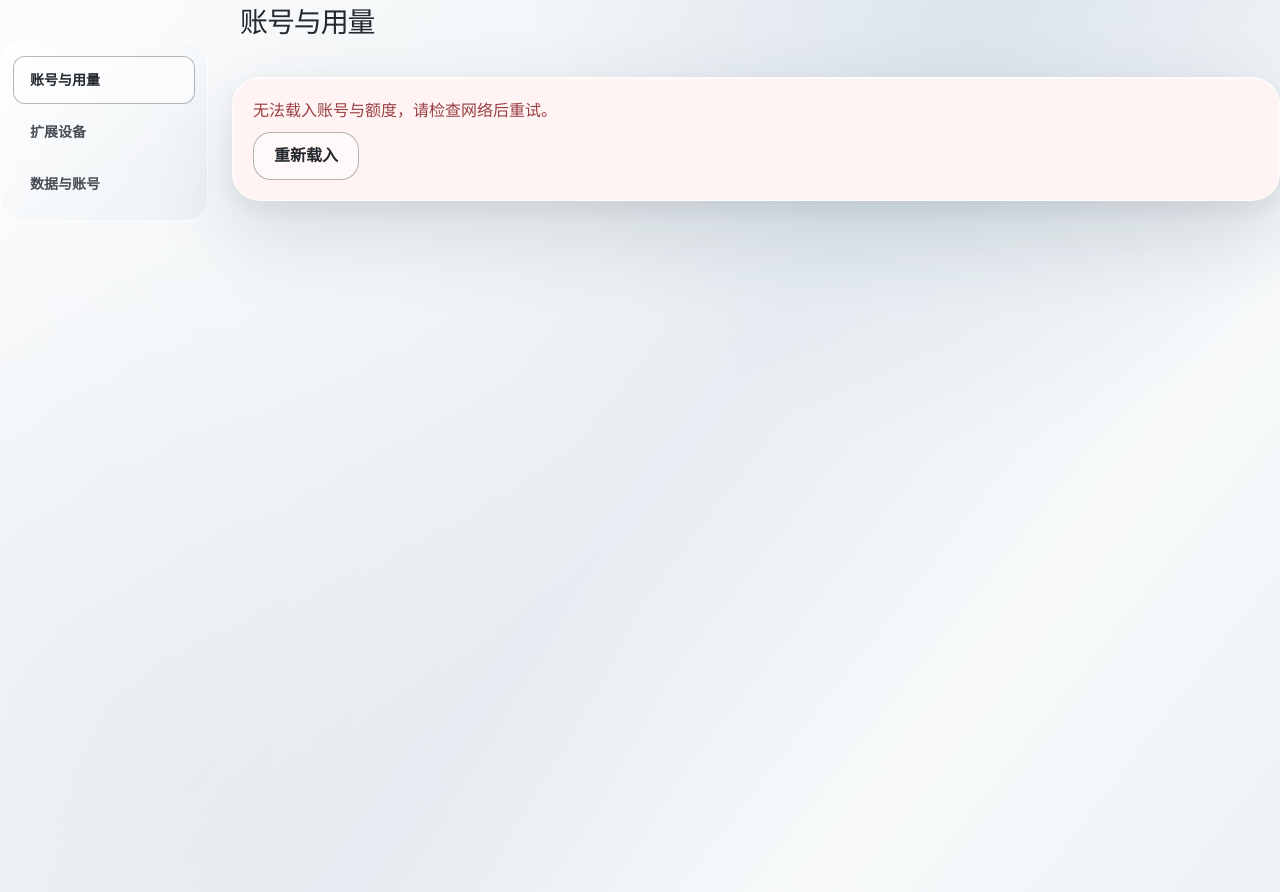
Scenario: Web account platform quota › recovers from a read error
expect the message "无法载入账号与额度，请检查网络后重试。 重新载入" is shown: met, box [232, 77, 1279, 201]
Click the button "重新载入": coordinates (306, 156) [253, 132, 359, 180]
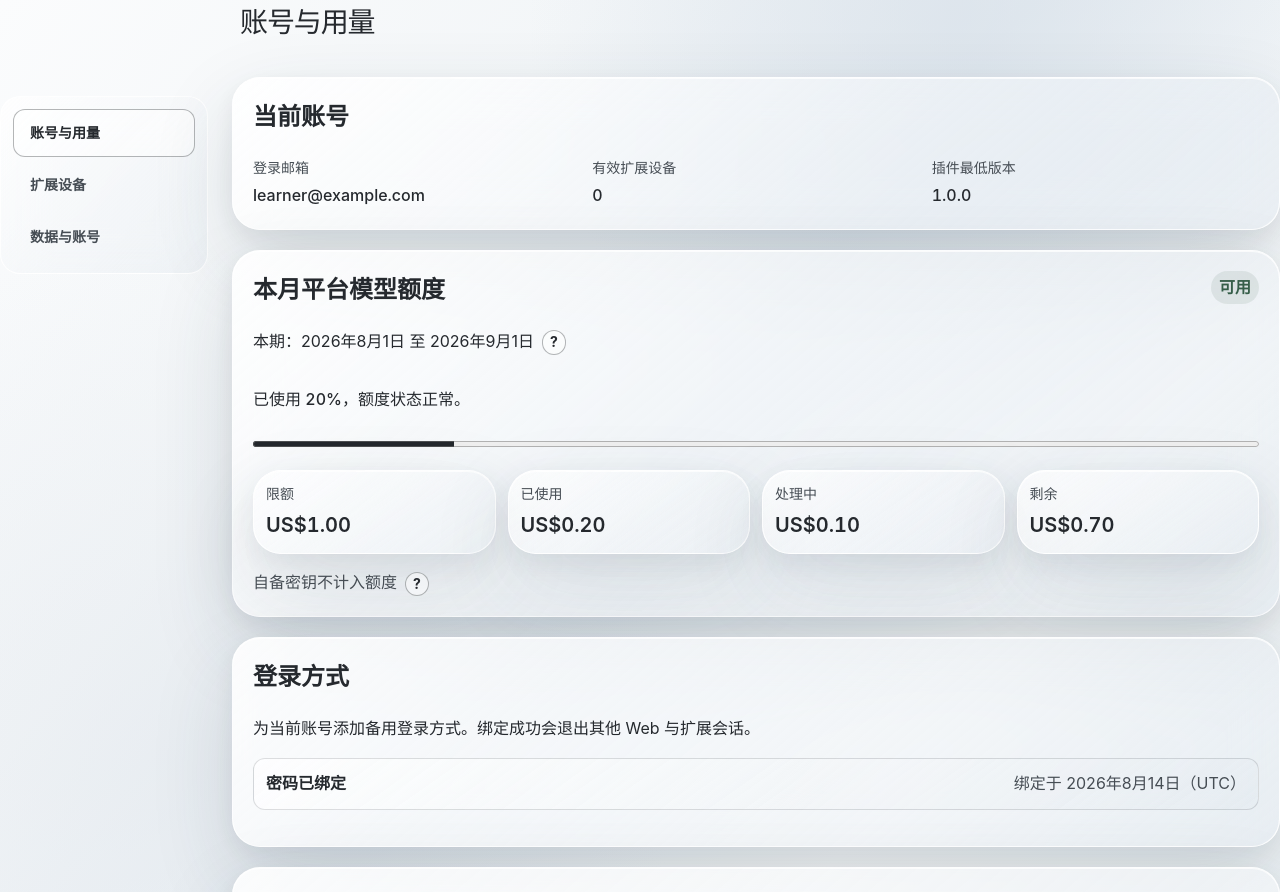
expect the progress indicator named "平台额度已使用 20%" is shown: met, box [253, 438, 1259, 450]
